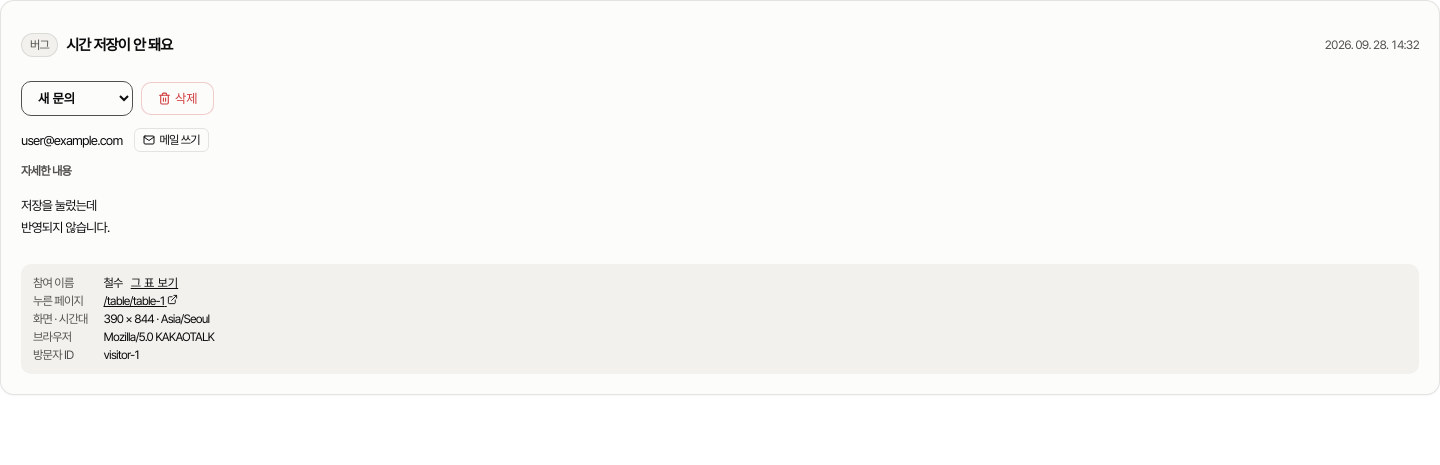
삭제에 실패하면 목록에 남기고 이유를 알린다
Click the button "삭제": coordinates (178, 98) [141, 82, 214, 115]
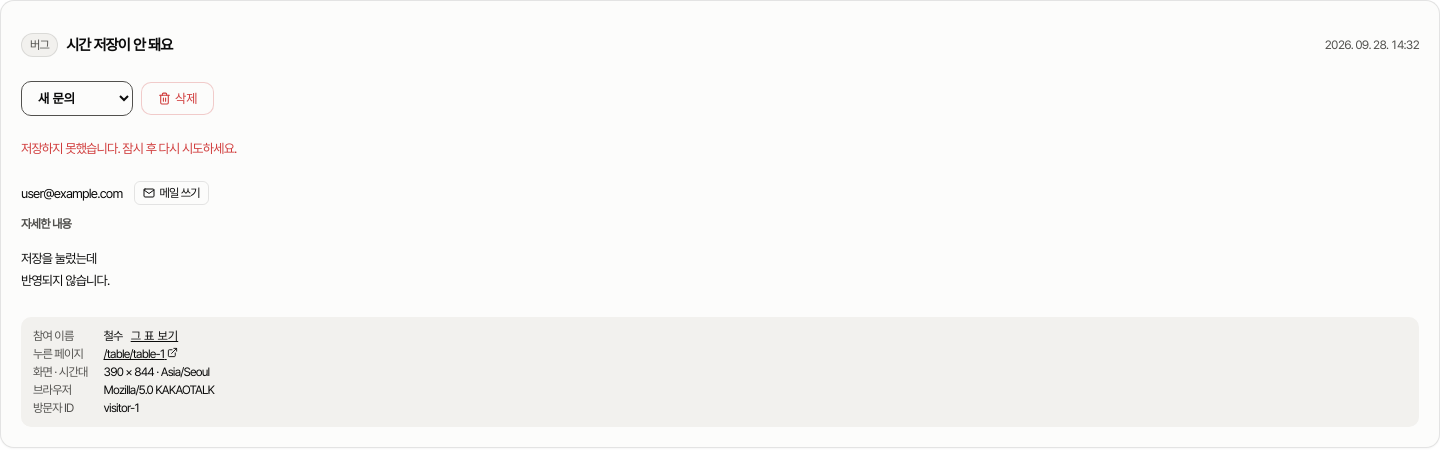
Expected: the heading "시간 저장이 안 돼요" is shown, [66, 36, 172, 54]
Expected: the message shows "저장하지 못했습니다", [21, 141, 237, 156]
